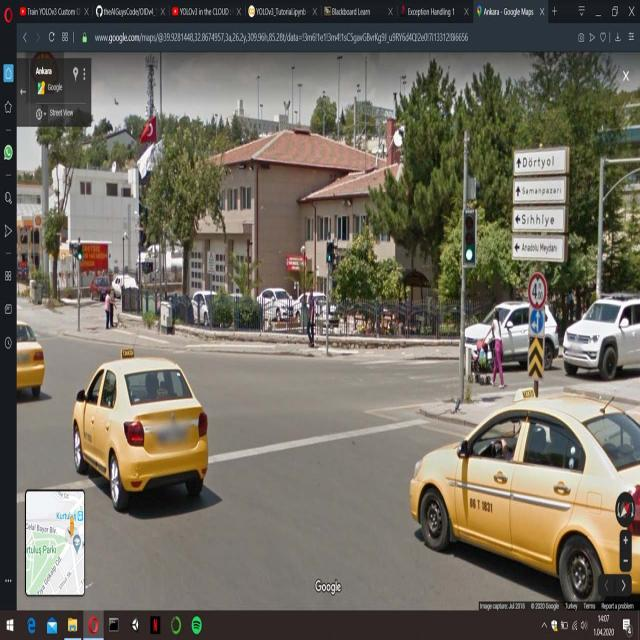ilerisol: (530, 311, 544, 334)
yesil: (465, 212, 477, 267)
